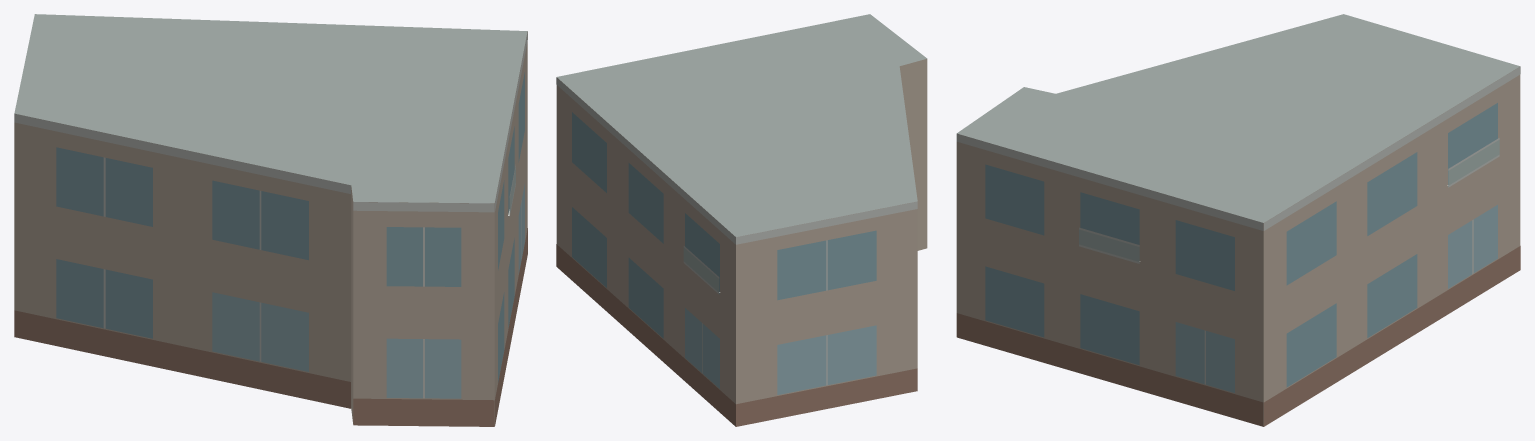
Rendered from survey-upis-32571208.glb.
3 views of the same model, side by side, from view 1: azimuth 30°, elevation 25°; view 2: azimuth 150°, elevation 25°; view 3: azimuth 270°, elevation 25° (orthographic). The views are drawn at different scales.
Parts seen in each view (by area): view 1: survey-upis-32571208.tmp; view 2: survey-upis-32571208.tmp; view 3: survey-upis-32571208.tmp.
Boxes of the visible parts, <box> form: survey-upis-32571208.tmp: <box>14,14,527,426</box>; survey-upis-32571208.tmp: <box>556,14,927,426</box>; survey-upis-32571208.tmp: <box>956,14,1520,426</box>.
Size of the model in its own units: 13.42 by 6.1 by 15.3.
